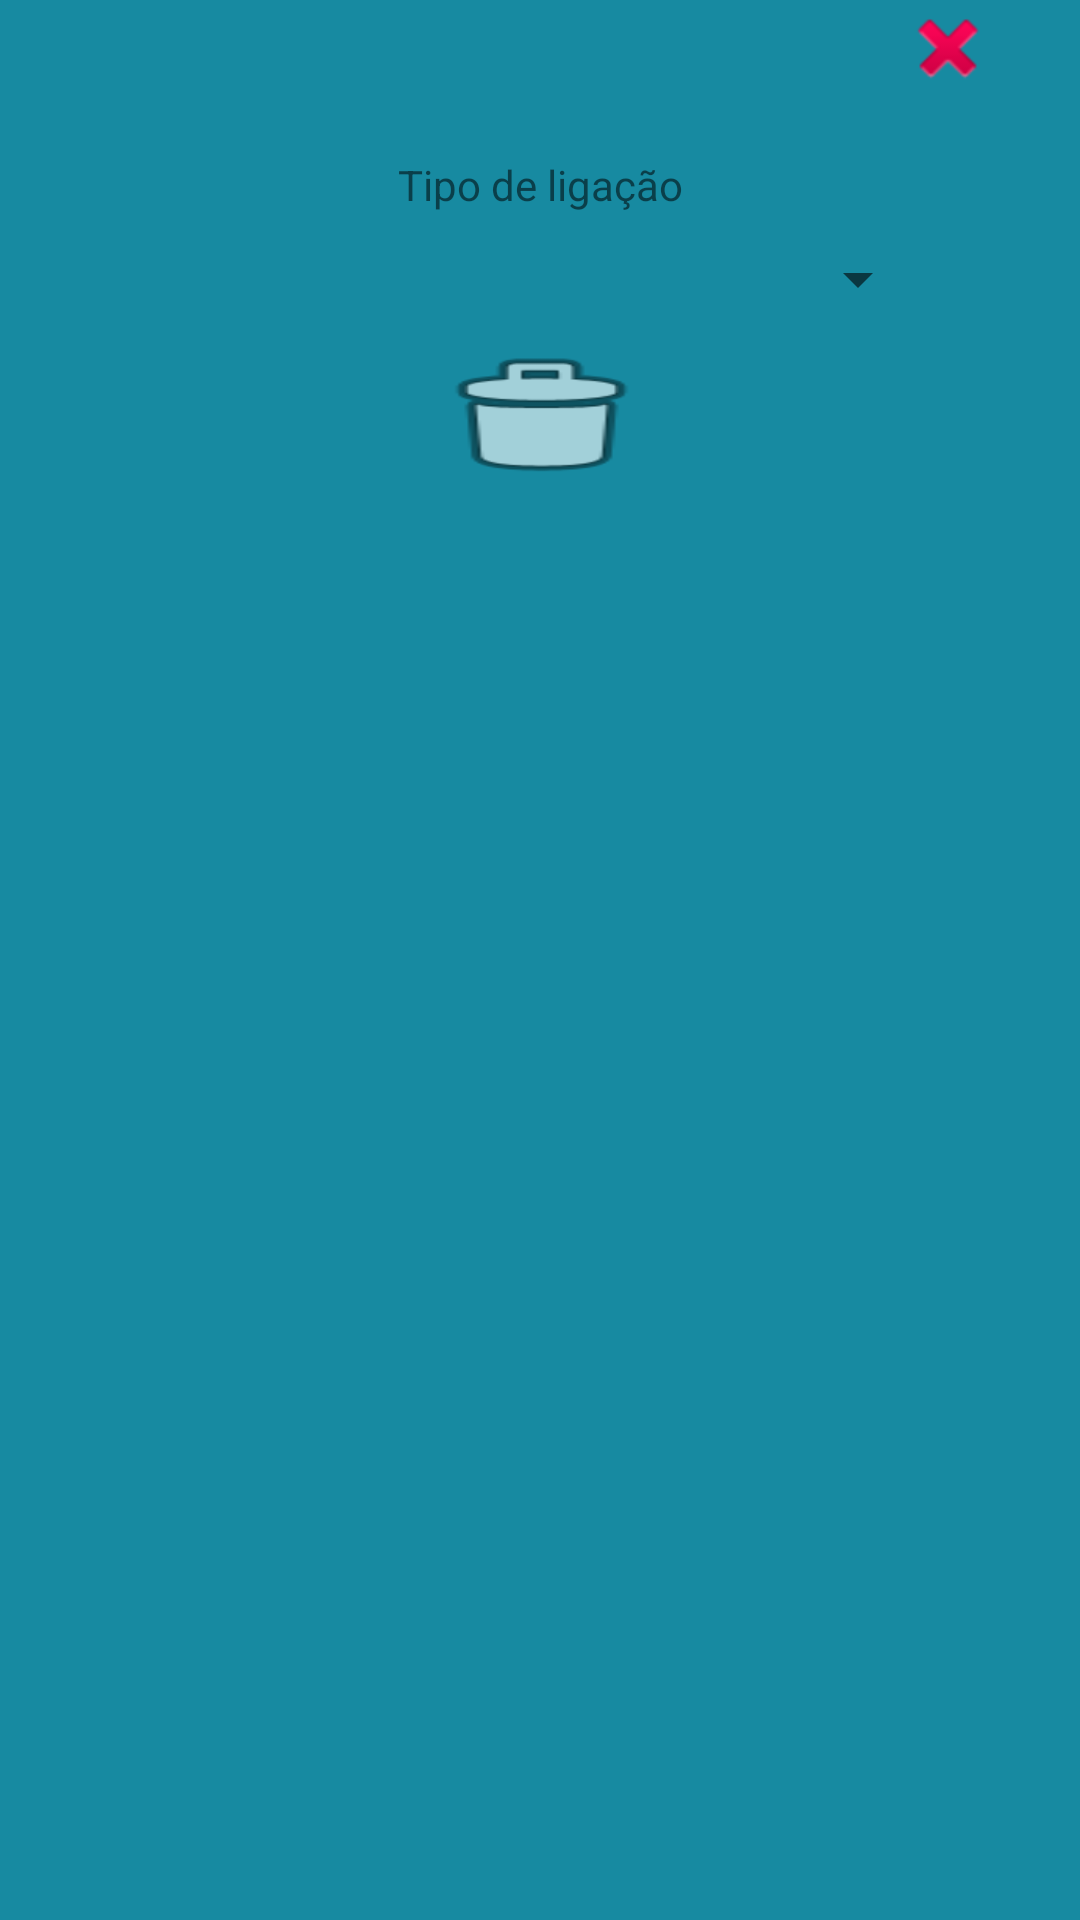

Locate icon controls on the screen. Image size 1080x1920, boxes as box(x1, y1, x2, y2).
delete: box(917, 19, 979, 78), box(457, 359, 626, 471)
